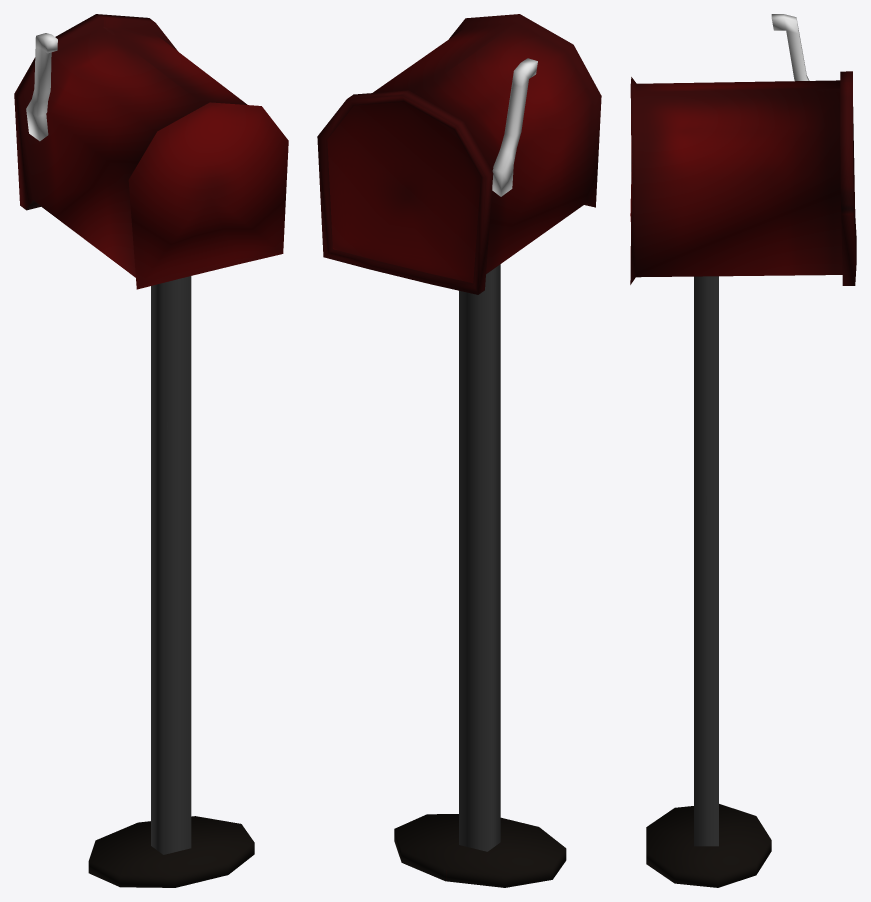
Rendered from CityKit_MailBox.fbx.
3 renders of one model, left to right at view 1: azimuth 30°, elevation 25°; view 2: azimuth 150°, elevation 25°; view 3: azimuth 270°, elevation 25°, orthographic. The views are drawn at different scales.
Visible parts, largest first — view 1: Mailbox; view 2: Mailbox; view 3: Mailbox.
Boxes of the visible parts, left/top/right/bottom form: Mailbox: left=14, top=14, right=288, bottom=887; Mailbox: left=317, top=14, right=601, bottom=887; Mailbox: left=630, top=14, right=856, bottom=887.
Bounding box in the file's own units: 83.71 × 380 × 97.9.
1 material, 1 textured.
